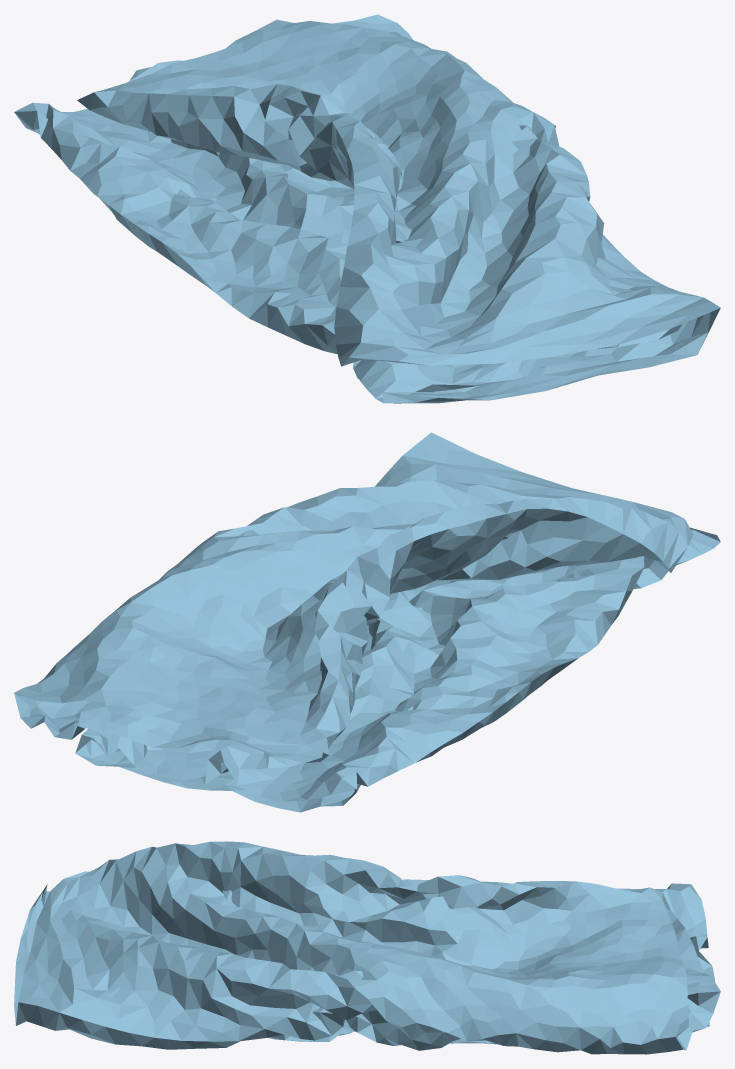
The model's file is frame_00.glb.
The picture shows the model from 3 angles, top to bottom: view 1: azimuth 30°, elevation 25°; view 2: azimuth 150°, elevation 25°; view 3: azimuth 270°, elevation 25°; orthographic projection. The views are drawn at different scales.
Parts seen in each view (by area): view 1: frame_00.obj; view 2: frame_00.obj; view 3: frame_00.obj.
Part boxes in pixels (x1,y1,x2,y2): frame_00.obj: (14,14,720,403); frame_00.obj: (14,432,720,812); frame_00.obj: (14,841,720,1054).
Bounding box in the file's own units: 0.969 × 0.3265 × 1.76.
